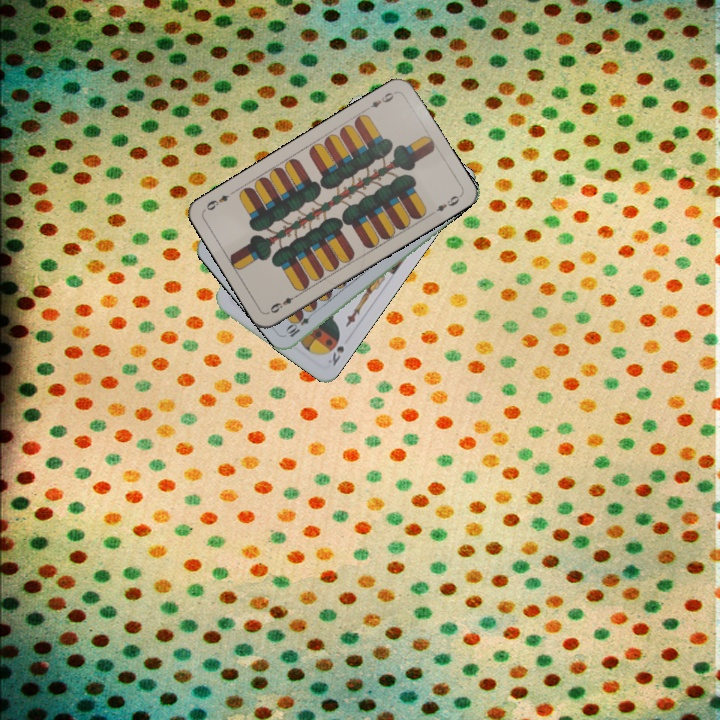E10: (282, 307, 317, 340)
E9: (361, 87, 398, 113), (266, 290, 302, 316)
SK: (324, 342, 347, 369)
